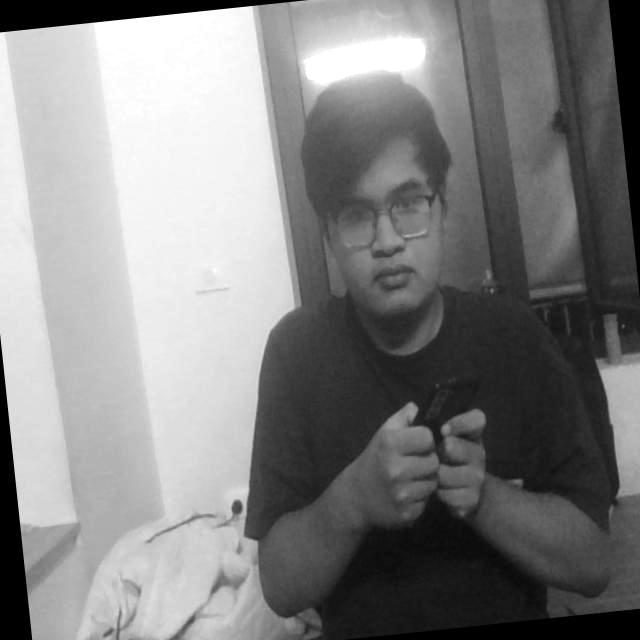phone: (397, 365, 487, 468)
